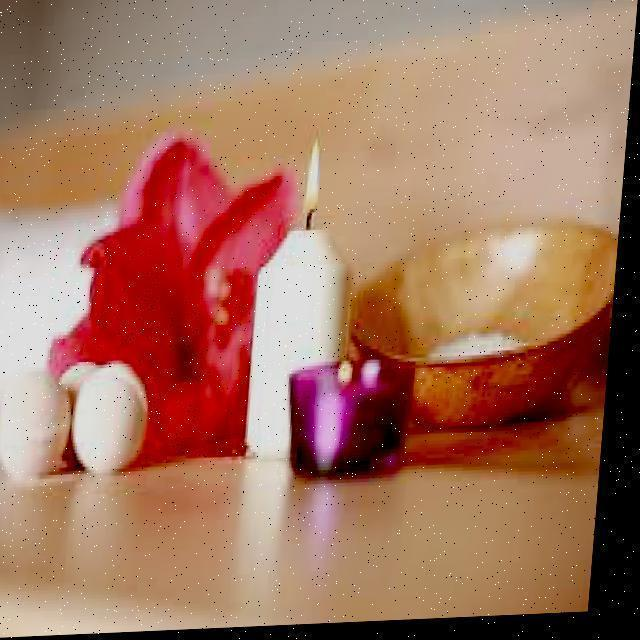Fire: (299, 131, 340, 227)
